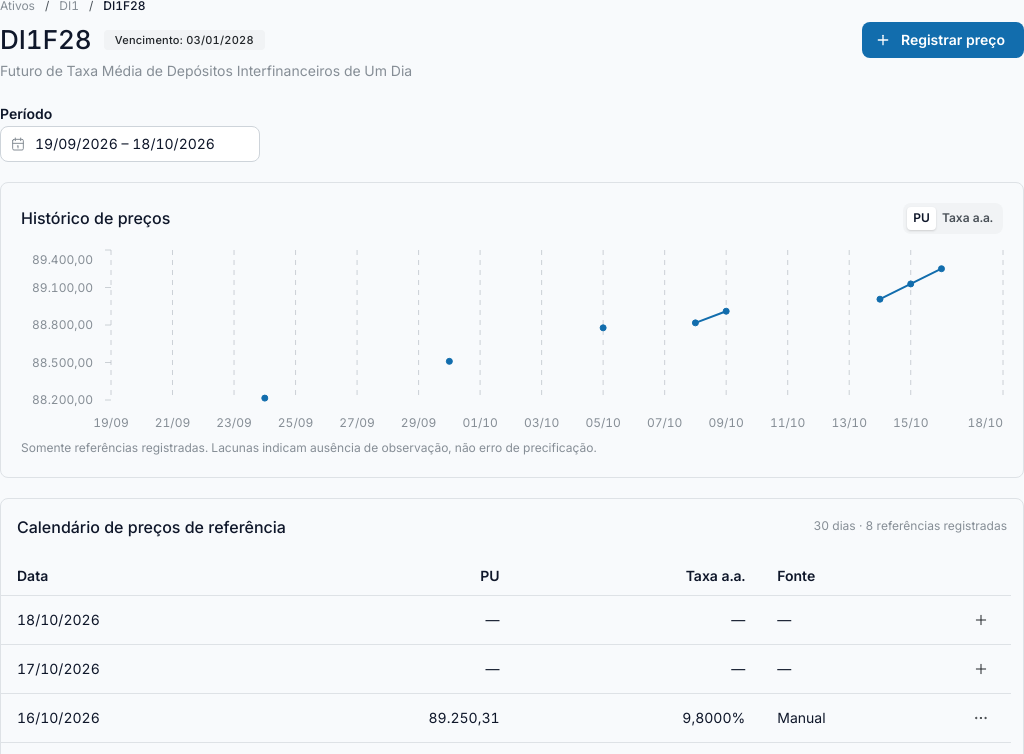
Test: Ativos: contrato (§11.2) › §5 OQ-26 a correction replaces the price and is shown at once
Expected: the heading "DI1F28" is shown, [0,22,92,57]
Click the button named "Ações de 16/10/2026". click: point(981, 718)
box: [967,704,995,732]
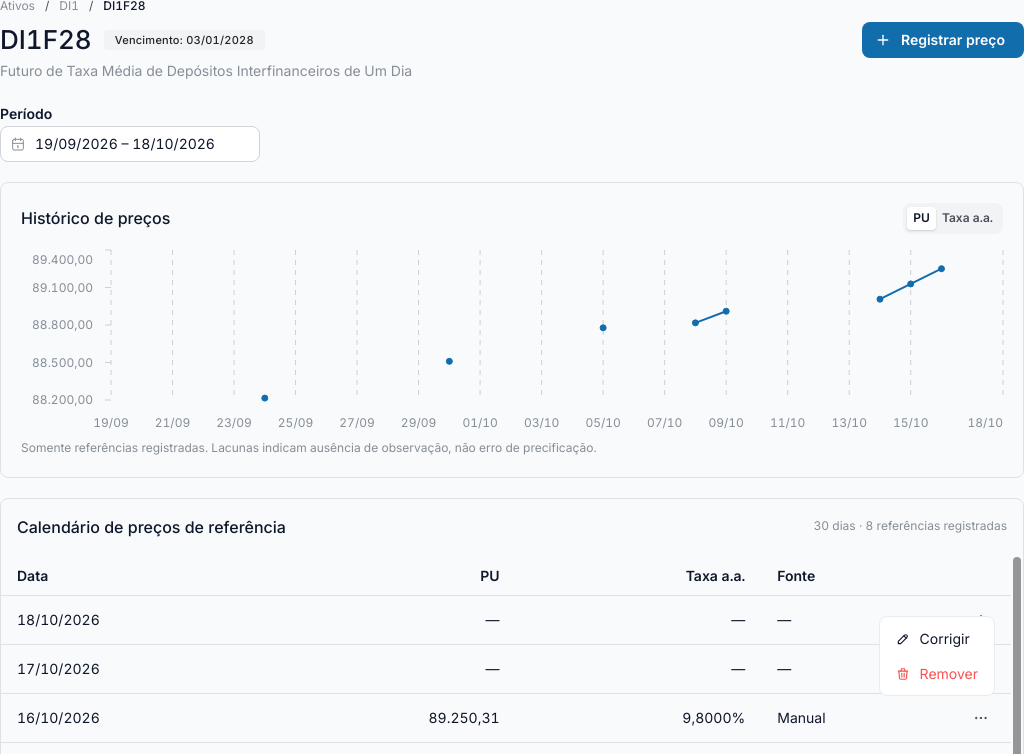
Click the menu item "Corrigir". click: point(937, 639)
box: [884,621,990,656]
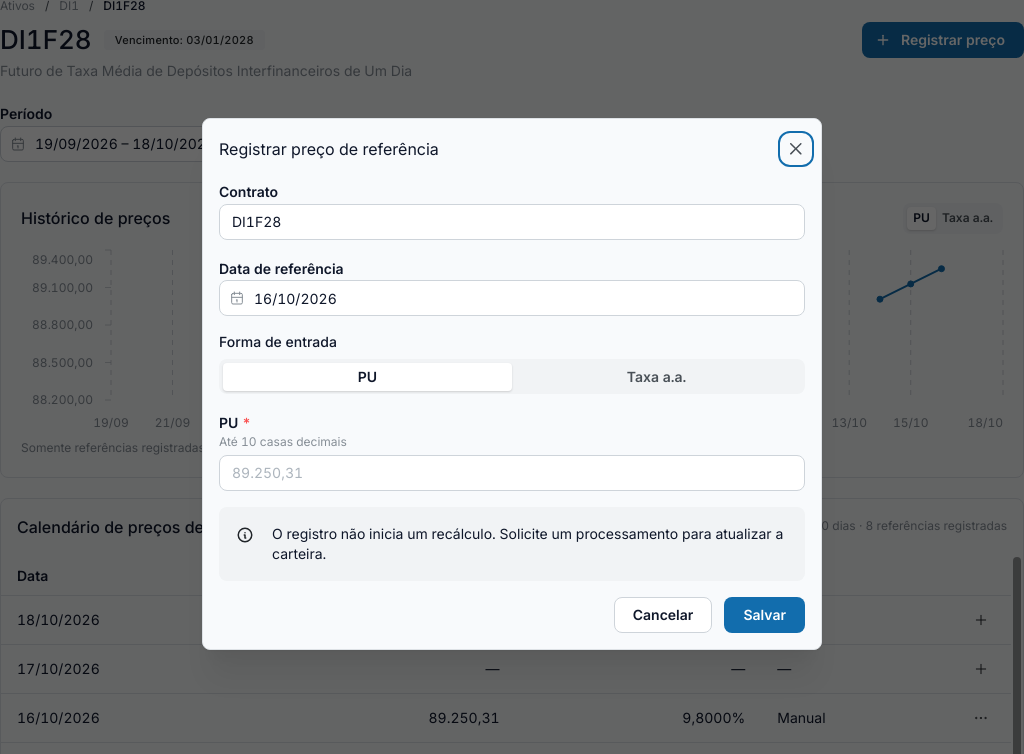
Result: the field labelled "Data de referência" holds "16/10/2026" at [219,280,805,316]
Click the 2nd radio button labelled "Taxa a.a.". click: point(656, 376)
box: [627,368,686,385]
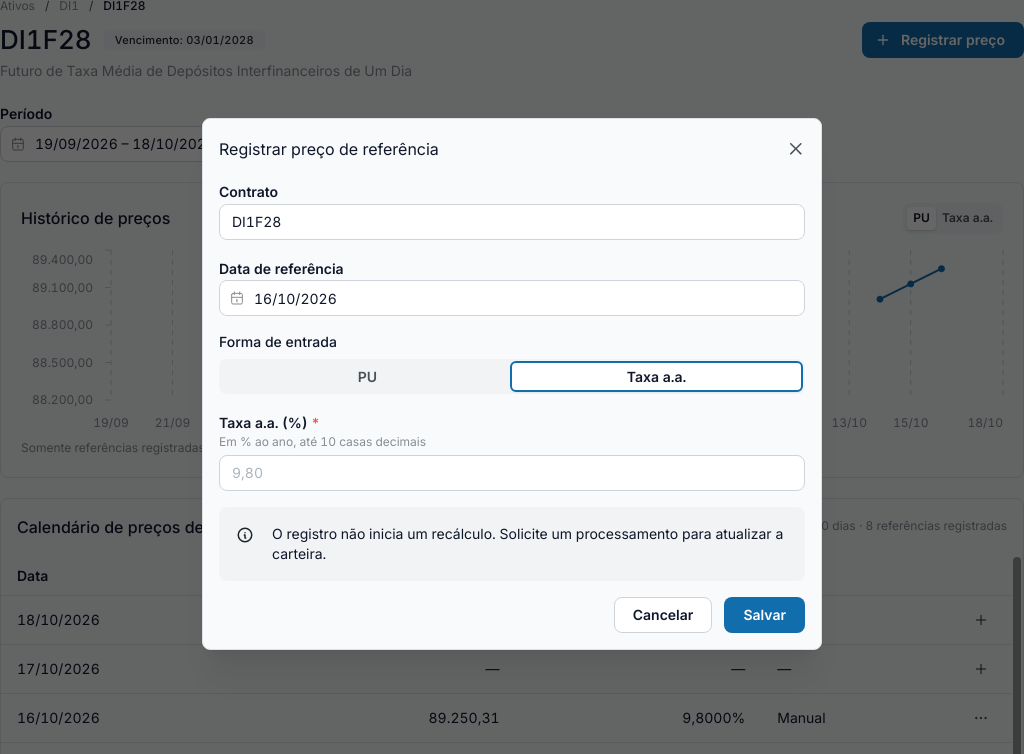
Type "9,75" into the field labelled "Taxa a.a. (%)". click: point(512, 473)
box: [219,455,805,491]
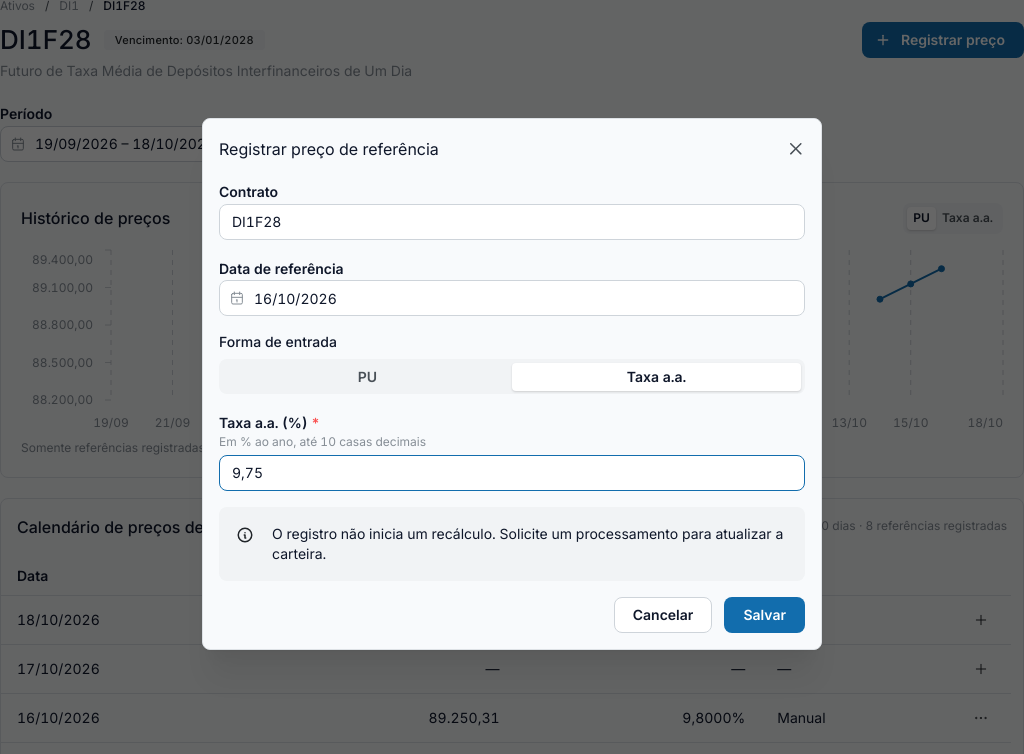
Click the button "Salvar". click: point(765, 615)
box: [724,597,805,633]
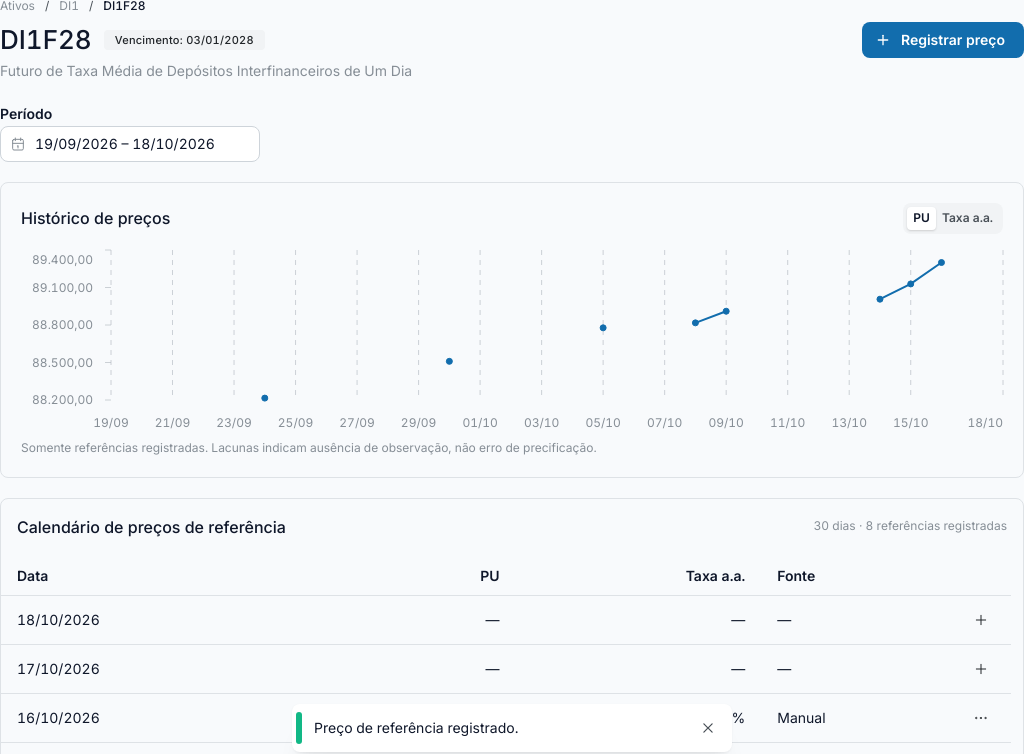
Expected: the text "Manual" is shown, [777,709,826,726]
Result: the heading "Registrar preço de referência" is gone
